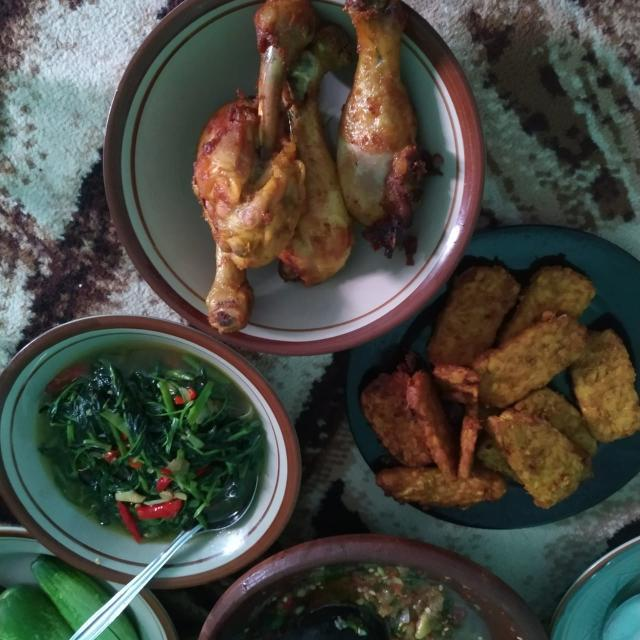ayam_goreng: (219, 0, 376, 266), (149, 128, 268, 347), (325, 22, 429, 248)
